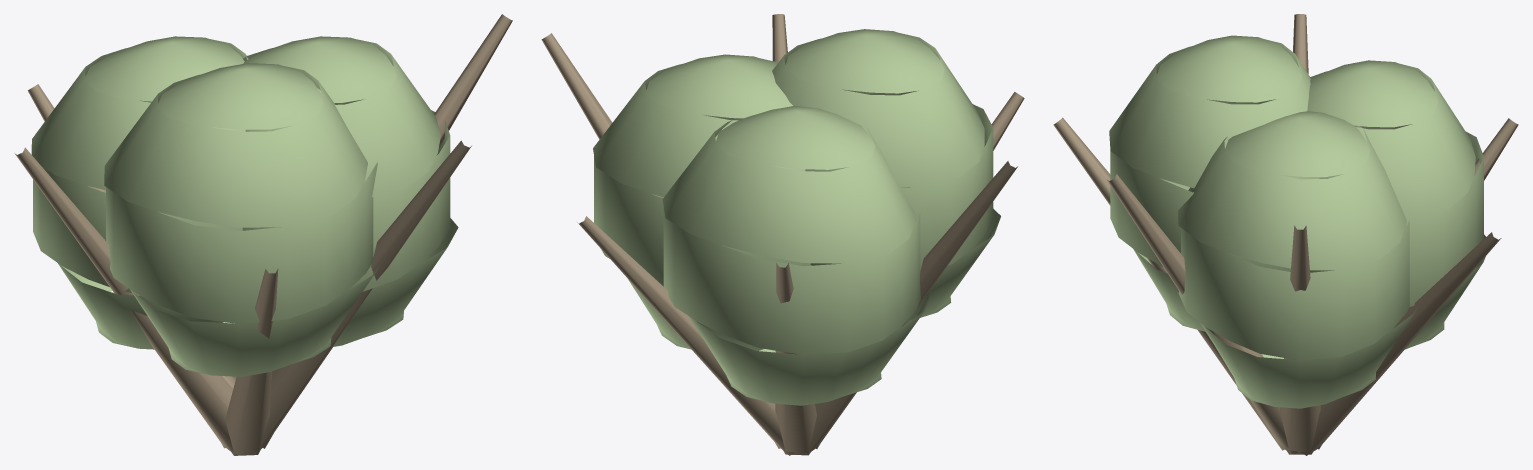
Rendered from salvia-fruticosa-light.glb.
3 renders of one model, left to right at view 1: azimuth 30°, elevation 25°; view 2: azimuth 150°, elevation 25°; view 3: azimuth 270°, elevation 25°, orthographic. The views are drawn at different scales.
Visible parts, largest first — view 1: salvia-fruticosa; view 2: salvia-fruticosa; view 3: salvia-fruticosa.
Boxes of the visible parts, left/top/right/bottom form: salvia-fruticosa: left=14, top=14, right=512, bottom=455; salvia-fruticosa: left=541, top=14, right=1024, bottom=455; salvia-fruticosa: left=1053, top=14, right=1518, bottom=455.
Size of the model in its own units: 1.07 by 0.8534 by 0.927.
